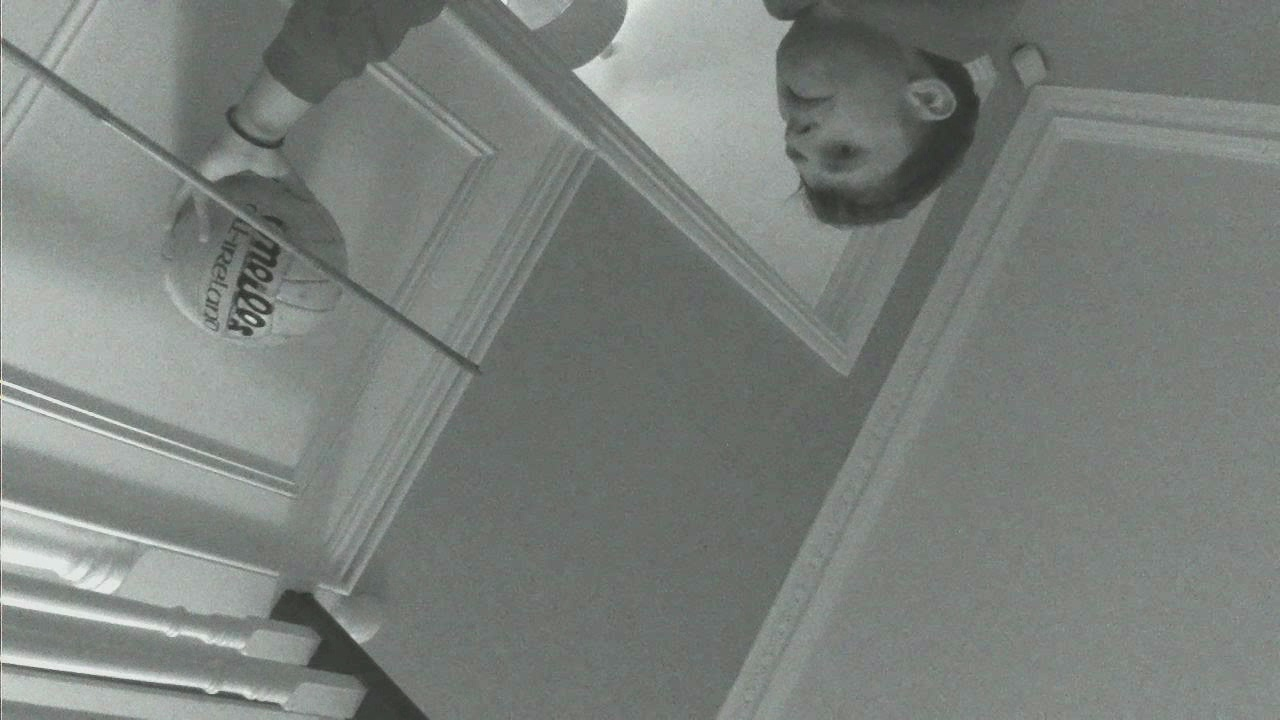Football-Spotter: (165, 172, 346, 345)
